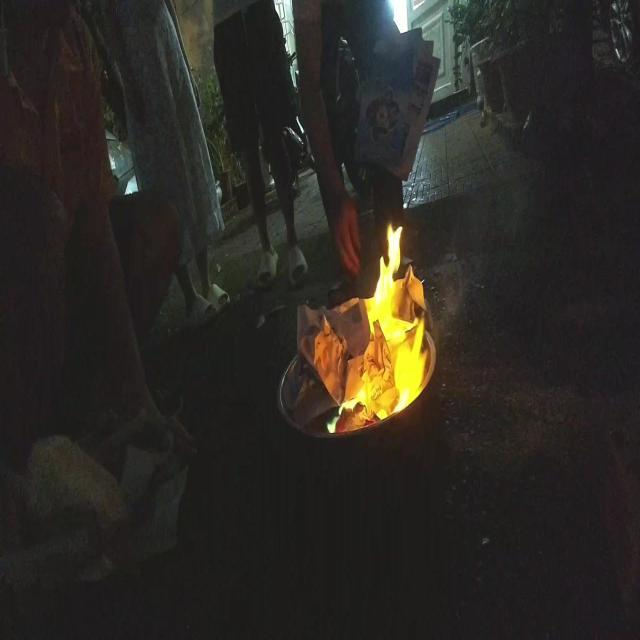Fire: (327, 218, 433, 438)
